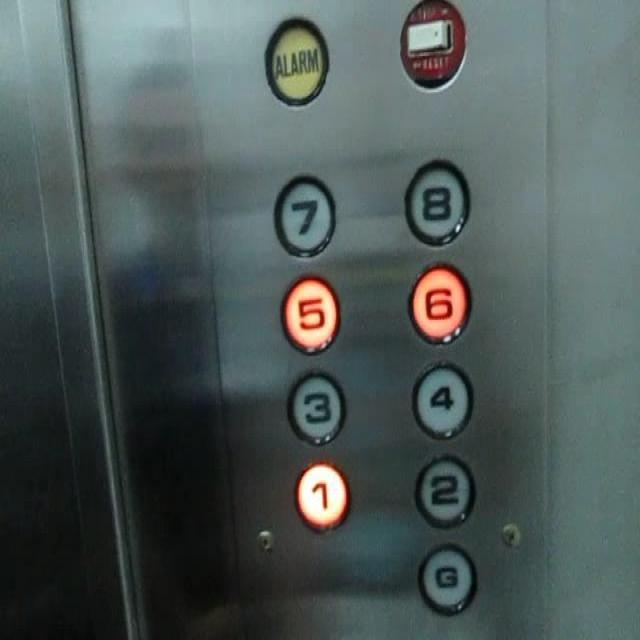1: (293, 459, 352, 533)
2: (412, 449, 475, 527)
3: (285, 370, 345, 446)
4: (410, 357, 474, 439)
5: (279, 272, 339, 352)
6: (404, 259, 471, 345)
7: (273, 172, 334, 257)
8: (403, 156, 470, 248)
G: (416, 542, 477, 614)
bt_switch: (398, 0, 465, 91)
text: (262, 13, 329, 104)
